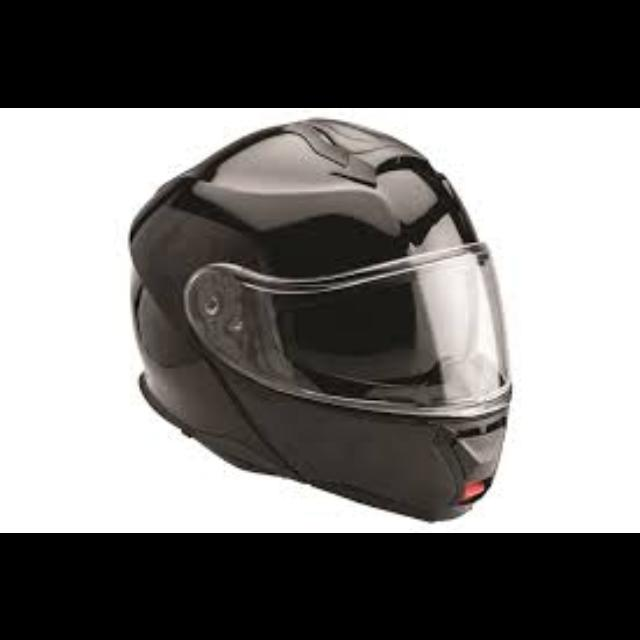motorcycle-helmets: (127, 114, 513, 524)
